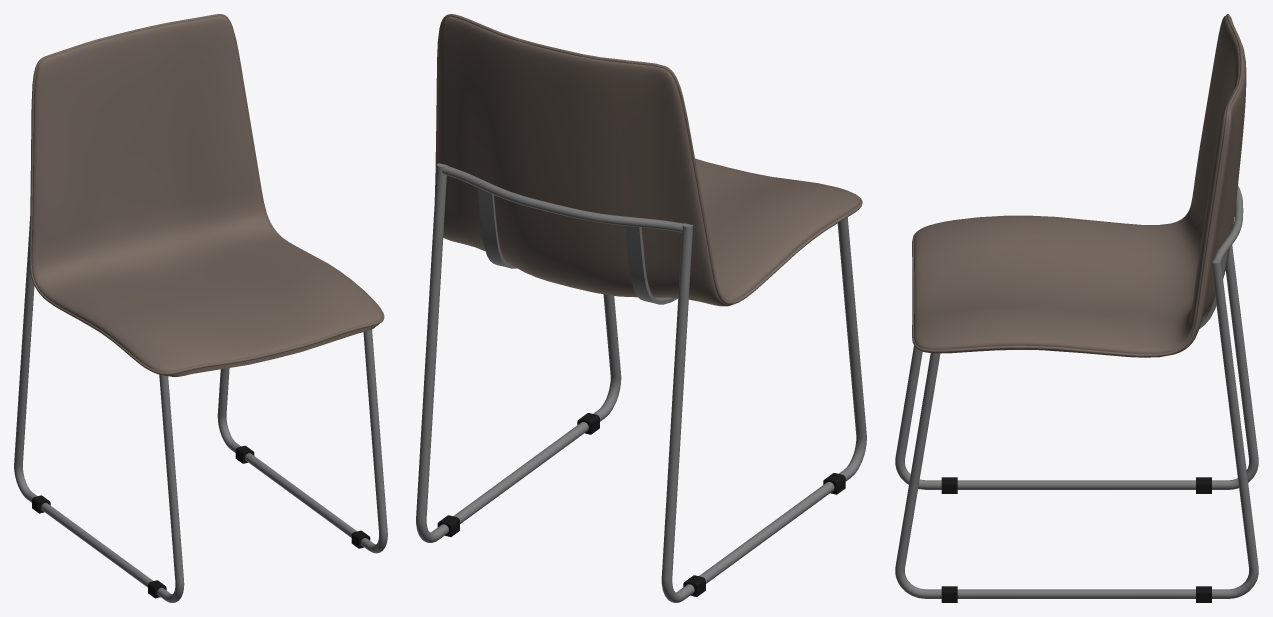
The picture shows the model from 3 angles, left to right: view 1: azimuth 30°, elevation 25°; view 2: azimuth 150°, elevation 25°; view 3: azimuth 270°, elevation 25°; orthographic projection. The views are drawn at different scales.
Visible parts, largest first — view 1: Body; view 2: Body; view 3: Body.
Boxes of the visible parts, x1,y1,x2,y2 form: Body: (14, 14, 387, 602); Body: (416, 14, 866, 602); Body: (895, 14, 1258, 602).
Bounding box in the file's own units: 0.4718 × 0.8286 × 0.5636.
